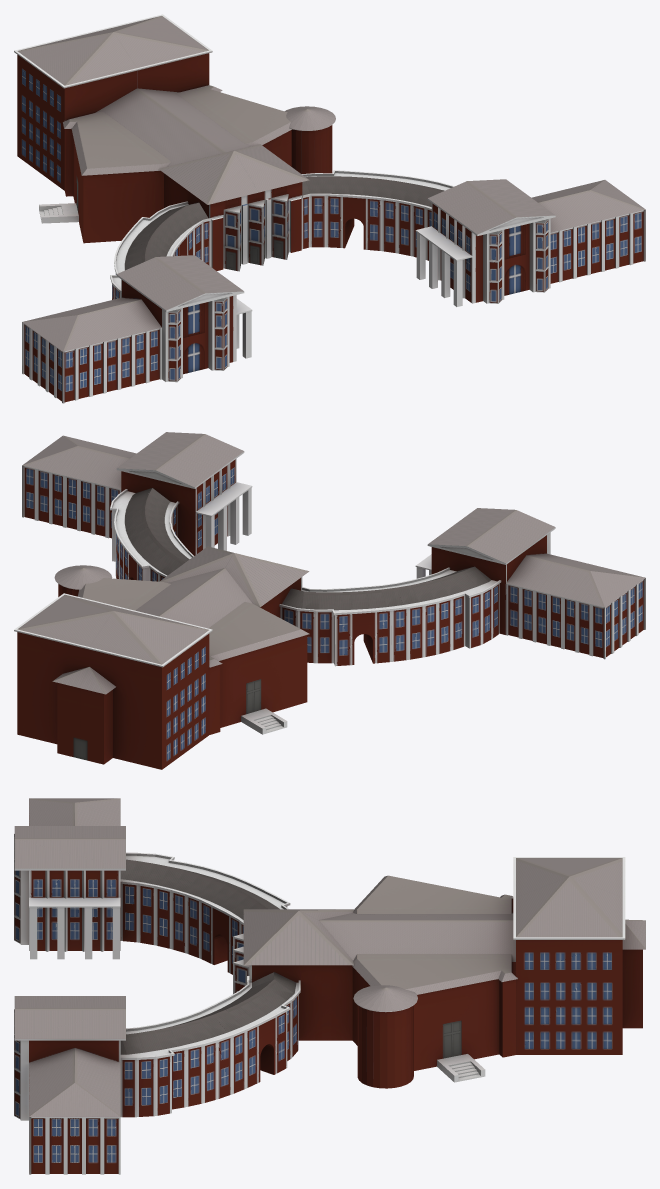
File: PalacePratsi2.glb
The picture shows the model from 3 angles, top to bottom: view 1: azimuth 30°, elevation 25°; view 2: azimuth 150°, elevation 25°; view 3: azimuth 270°, elevation 25°; orthographic projection. The views are drawn at different scales.
Visible parts, largest first — view 1: Untitled; view 2: Untitled; view 3: Untitled.
Part boxes in pixels (<box>): Untitled: <box>14,14,645,403</box>; Untitled: <box>14,432,645,769</box>; Untitled: <box>14,798,645,1174</box>.
Size of the model in its own units: 155 by 31.42 by 130.
5 materials, 5 textured.
